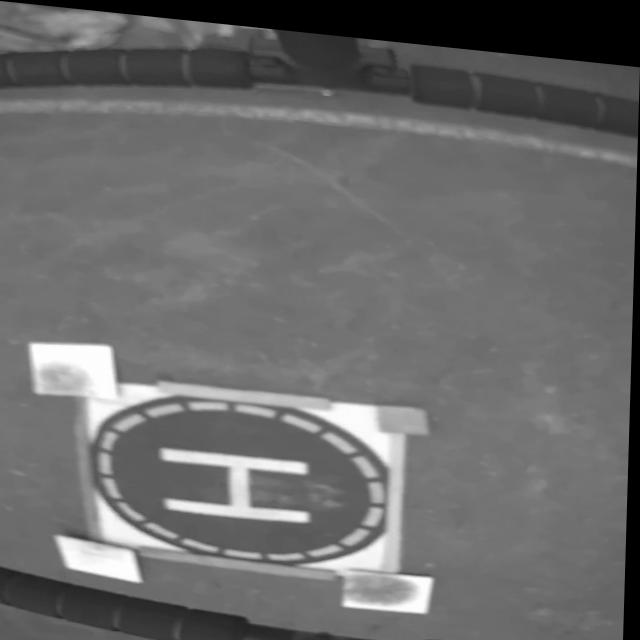Helipad: (160, 442, 312, 516)
